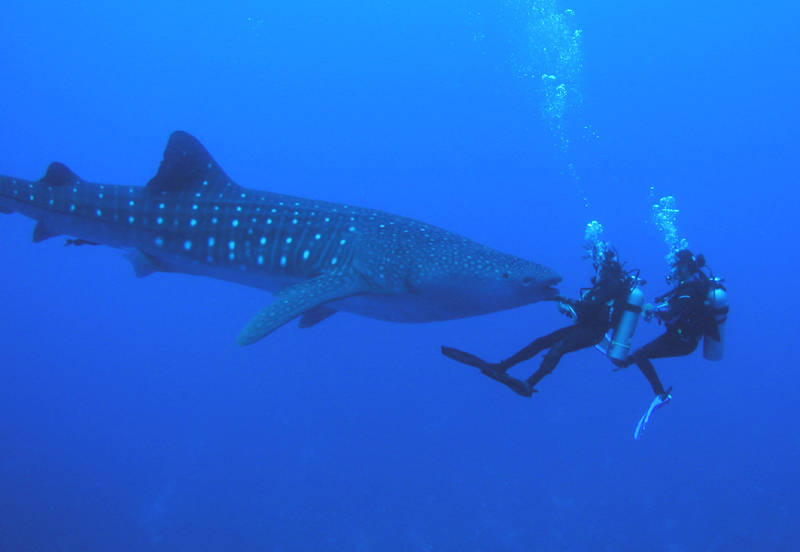Rhincodon_typusw: (2, 127, 559, 337)
